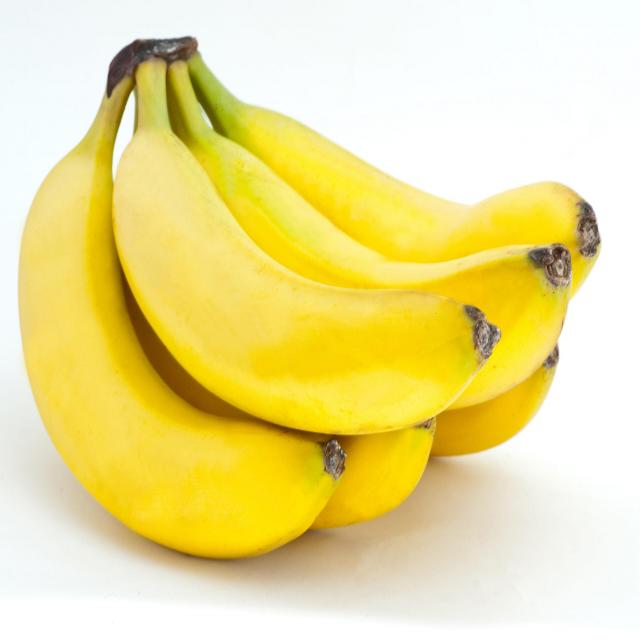banana: (13, 23, 611, 565)
